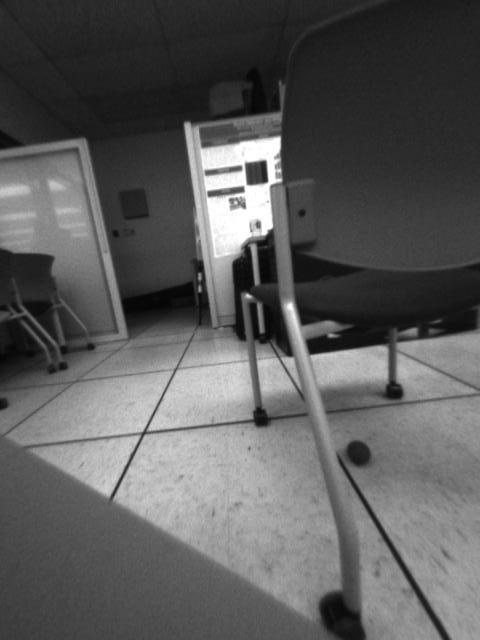dogtoy: (340, 433, 379, 471)
